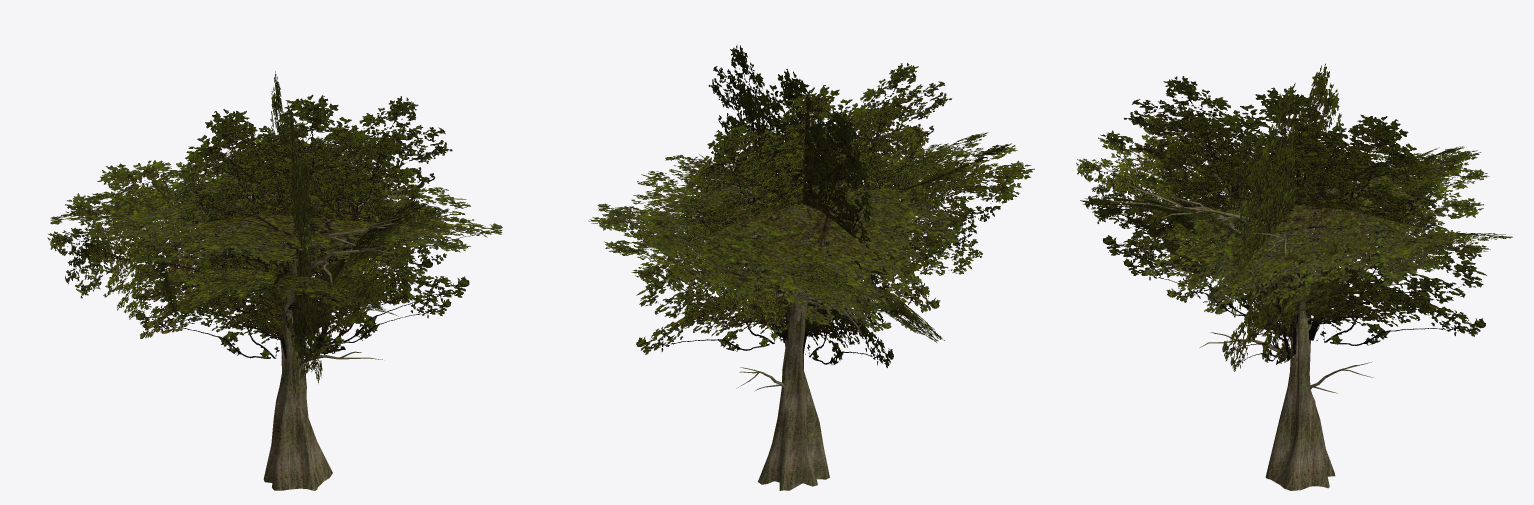
File: ADDON_PLANTS_JUNGLETREE_01_1845P.glb
3 renders of one model, left to right at view 1: azimuth 30°, elevation 25°; view 2: azimuth 150°, elevation 25°; view 3: azimuth 270°, elevation 25°, orthographic. The views are drawn at different scales.
Parts seen in each view (by area): view 1: Mesh; view 2: Mesh; view 3: Mesh.
Part boxes in pixels (box(x1,y1,x2,y2)): Mesh: box(47, 71, 502, 490); Mesh: box(588, 45, 1034, 490); Mesh: box(1076, 63, 1512, 490).
Size of the model in its own units: 44.76 by 46.18 by 46.86.
3 materials, 3 textured.
